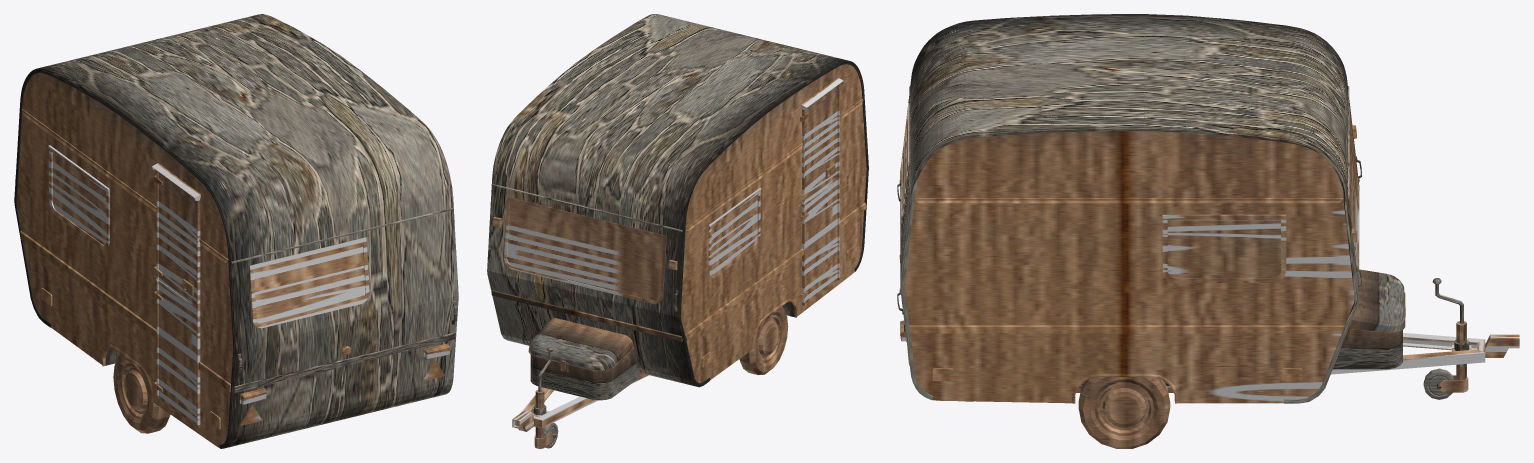
The model's file is BXT0G9KM1IKKG9ZLJ81MX7LGO.obj.
3 views of the same model, side by side, from view 1: azimuth 30°, elevation 25°; view 2: azimuth 150°, elevation 25°; view 3: azimuth 270°, elevation 25° (orthographic). The views are drawn at different scales.
Parts seen in each view (by area): view 1: Object_TexMap; view 2: Object_TexMap; view 3: Object_TexMap.
Boxes of the visible parts, x1,y1,x2,y2 form: Object_TexMap: (14,14,458,448); Object_TexMap: (487,14,868,448); Object_TexMap: (897,14,1519,448).
Bounding box in the file's own units: 1.11 × 1.45 × 2.5.
